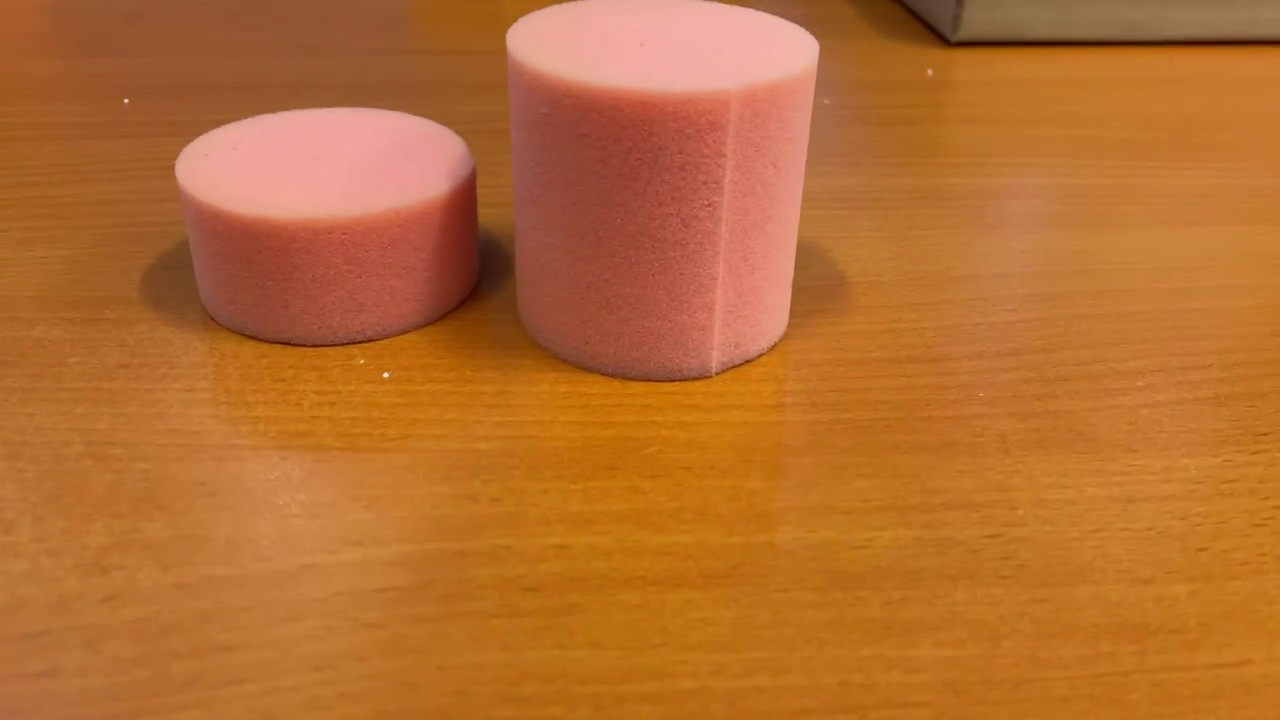Clyinder_short: (169, 102, 493, 351)
Cylinder: (493, 1, 828, 386)
